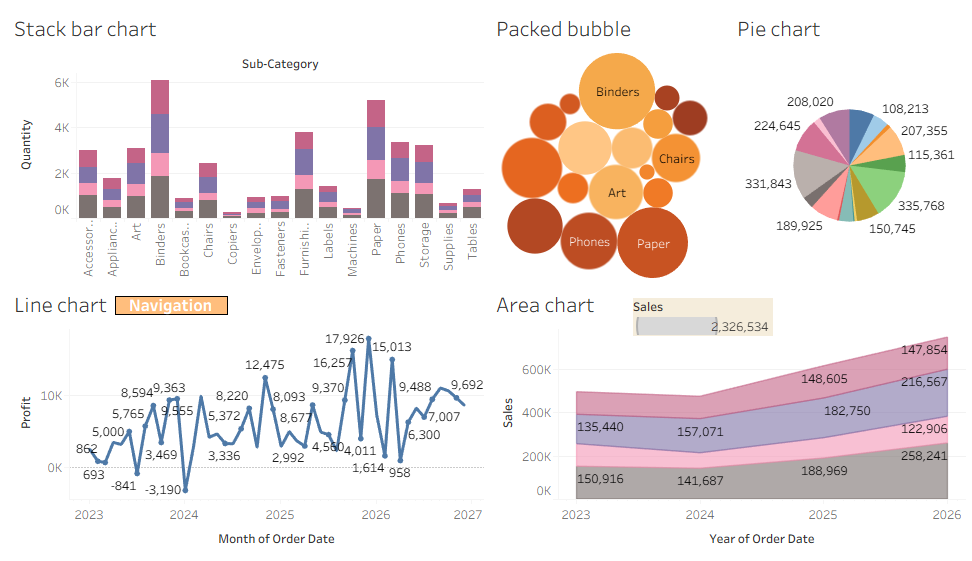

What the dashboard file says about the page in this screenshot:
{"tool":"tableau","page":{"name":"Dashboard 1","canvas":[1000,1000],"units":"permille","ordinal":0},"visuals":[{"type":"worksheet","title":"Stack bar chart","mark":"Automatic","rows":["Quantity"],"cols":["Sub-Category"],"box":[6.6,14.1,395.1,485.9]},{"type":"worksheet","title":"Packed bubble","mark":"Circle","box":[401.6,14.1,197.5,485.9]},{"type":"worksheet","title":"Pie chart","mark":"Pie","box":[599.2,14.1,197.5,485.9]},{"type":"legend","title":"Stack bar chart","param":"[federated.02xgmay011z5xx1gy02bg1b10egm].[none:Region:nk]","box":[796.7,14.1,196.7,186.6]},{"type":"legend","title":"Packed bubble","param":"[federated.02xgmay011z5xx1gy02bg1b10egm].[none:Sub-Category:nk]","box":[796.7,200.7,196.7,392.6]},{"type":"worksheet","title":"Line chart","mark":"Automatic","rows":["Profit"],"cols":["Order Date"],"box":[6.6,500,395.1,485.9]},{"type":"worksheet","title":"Area chart","mark":"Area","rows":["Sales"],"cols":["Order Date"],"box":[401.6,500,395.1,485.9]},{"type":"dashboard-object","box":[13.1,521.1,61.5,52.8]},{"type":"legend","title":"Pie chart","param":"[federated.02xgmay011z5xx1gy02bg1b10egm].[sum:Sales:qk]","box":[520.5,528.2,114.8,66.9]},{"type":"legend","title":"Pie chart","param":"[federated.02xgmay011z5xx1gy02bg1b10egm].[none:Sub-Category:nk]\n[federated.02xgm","box":[796.7,593.3,196.7,392.6]}]}

Visuals, with their boxes on the dashboard's canvas, which has no fixed pixel size, in thousandths of its width and height (x1, y1, x2, y2). These are canvas units, not pixel positions in the 972x561 screenshot, which may show the page scaled, cropped or inside an application window:
"Stack bar chart" worksheet: select_region(7, 14, 402, 500)
"Packed bubble" worksheet (Circle marks): select_region(402, 14, 599, 500)
"Pie chart" worksheet (Pie marks): select_region(599, 14, 797, 500)
"Stack bar chart" legend: select_region(797, 14, 993, 201)
"Packed bubble" legend: select_region(797, 201, 993, 593)
"Line chart" worksheet: select_region(7, 500, 402, 986)
"Area chart" worksheet (Area marks): select_region(402, 500, 797, 986)
dashboard-object: select_region(13, 521, 75, 574)
"Pie chart" legend: select_region(520, 528, 635, 595)
"Pie chart" legend: select_region(797, 593, 993, 986)
